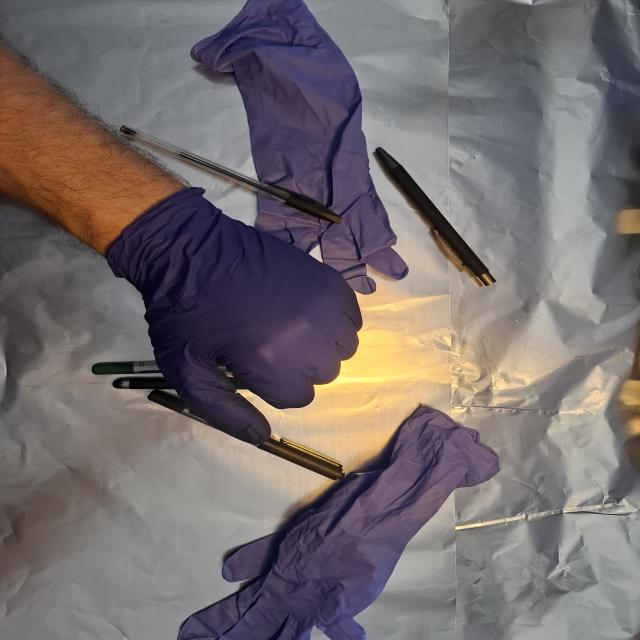glove_on: (105, 187, 369, 448)
